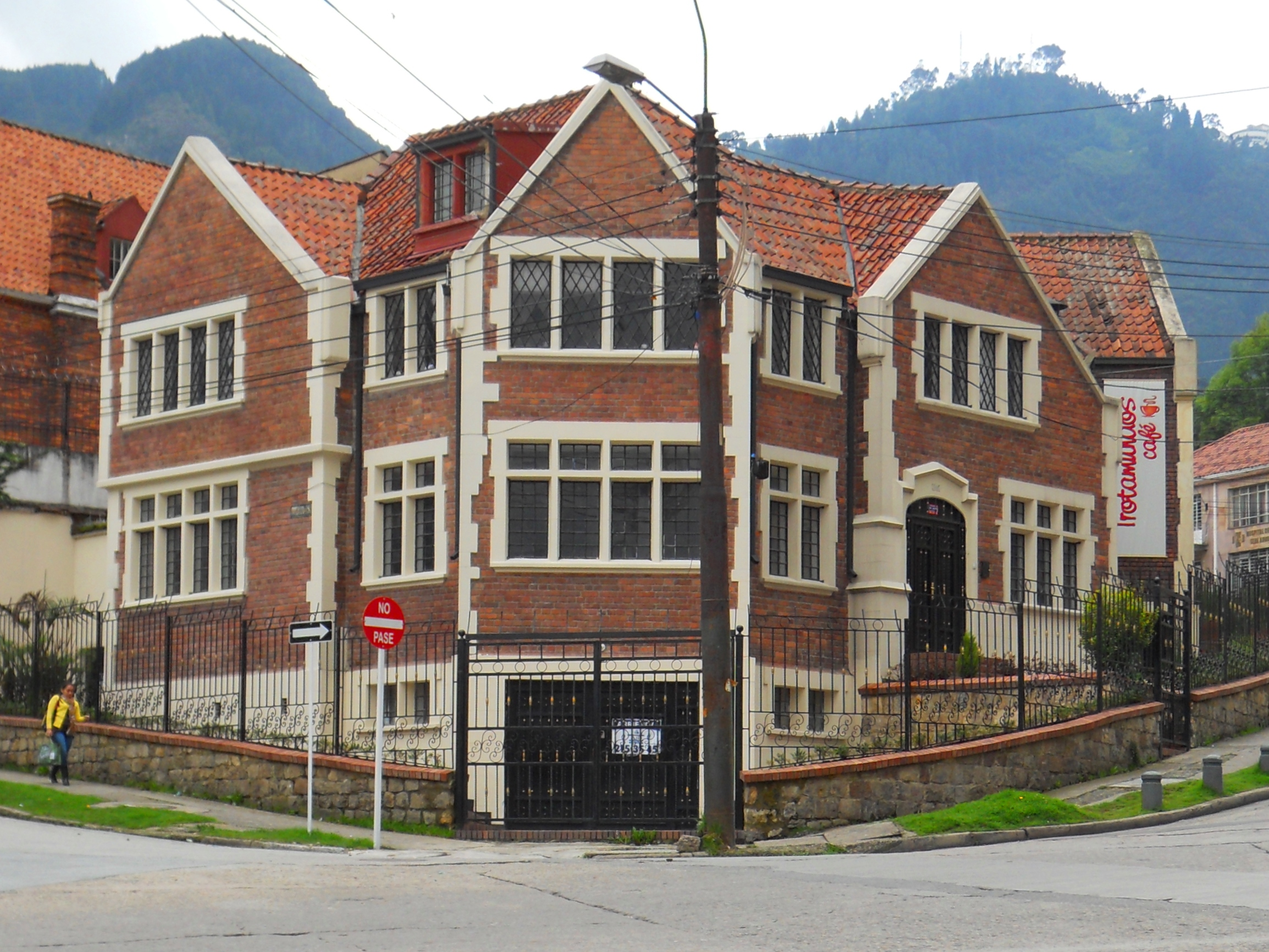House: (106, 89, 1111, 800)
